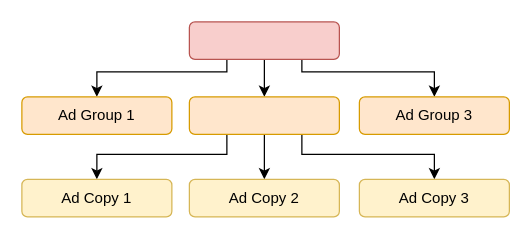
Image size: 531x239. Some labels were removed from this diagram. Each missing label, with the centre of its shape:
"Ad Group 2" goes at (263,115).
"Campaign" goes at (263,40).
